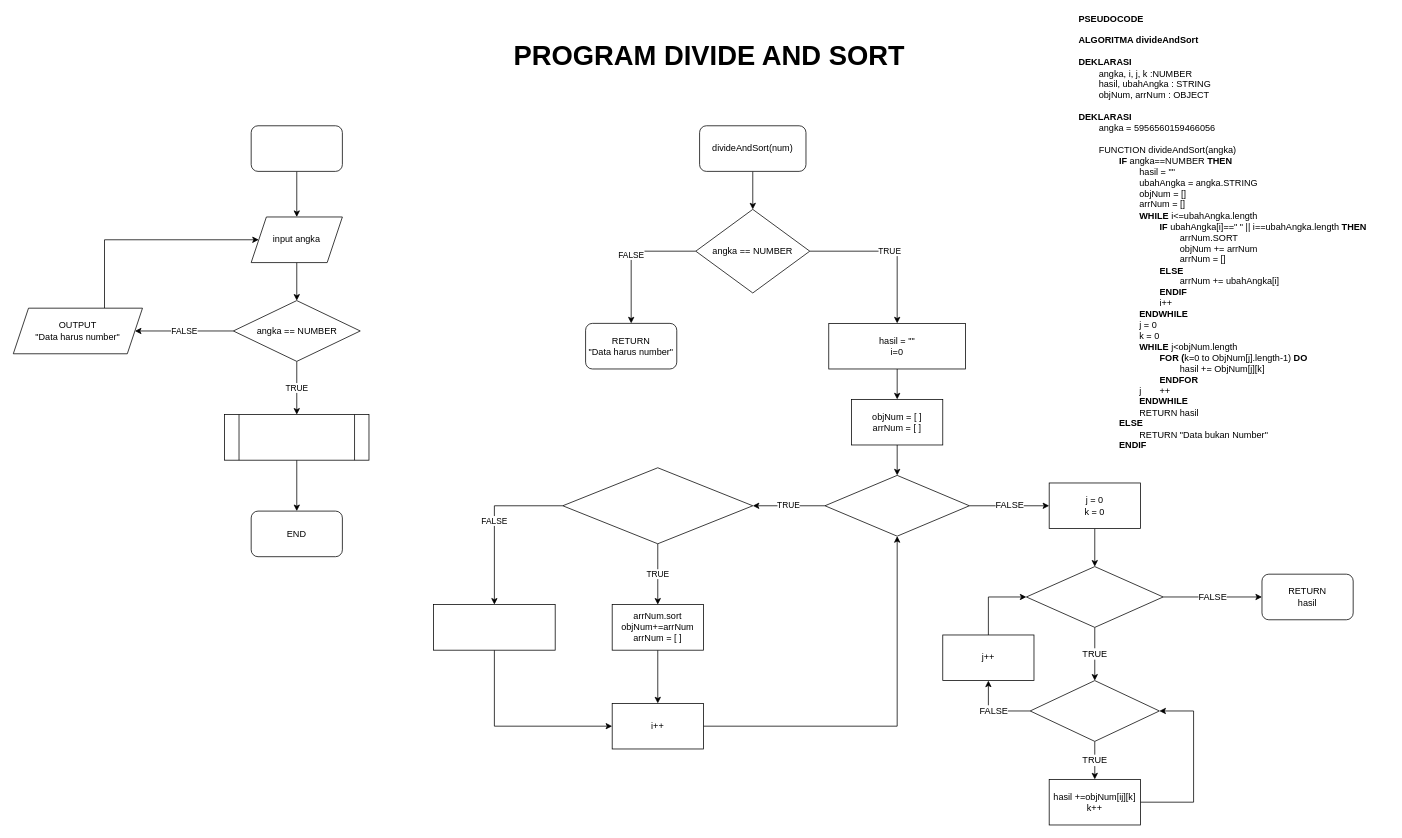
This 1402x838 diagram has some shape labels left out. The shapes that lost their labels are listed below. From the top down, each one's centre as x and y in pixels, then its label:
(x=296, y=148): START
(x=296, y=437): divideAndSort(angka)
(x=657, y=505): num[i]==0 || i==num.length
(x=896, y=505): i<num.length
(x=1094, y=596): j<objNum.length
(x=494, y=627): arrNum += num[i]
(x=1094, y=710): k<objNum[j].length
